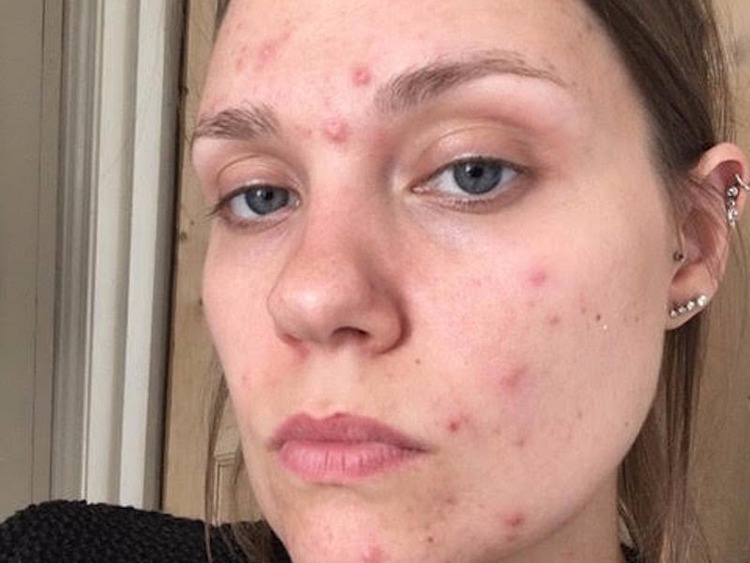Acne: (311, 114, 353, 151), (343, 59, 374, 90)
